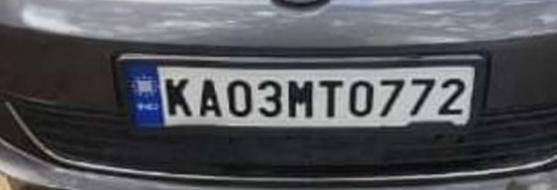0: (225, 76, 254, 120), (346, 77, 375, 118)
2: (440, 75, 467, 122)
3: (257, 77, 285, 122)
7: (378, 75, 408, 121), (411, 72, 436, 120)
A: (196, 76, 224, 122)
K: (162, 76, 197, 120)
M: (283, 78, 315, 121)
T: (316, 77, 345, 122)
